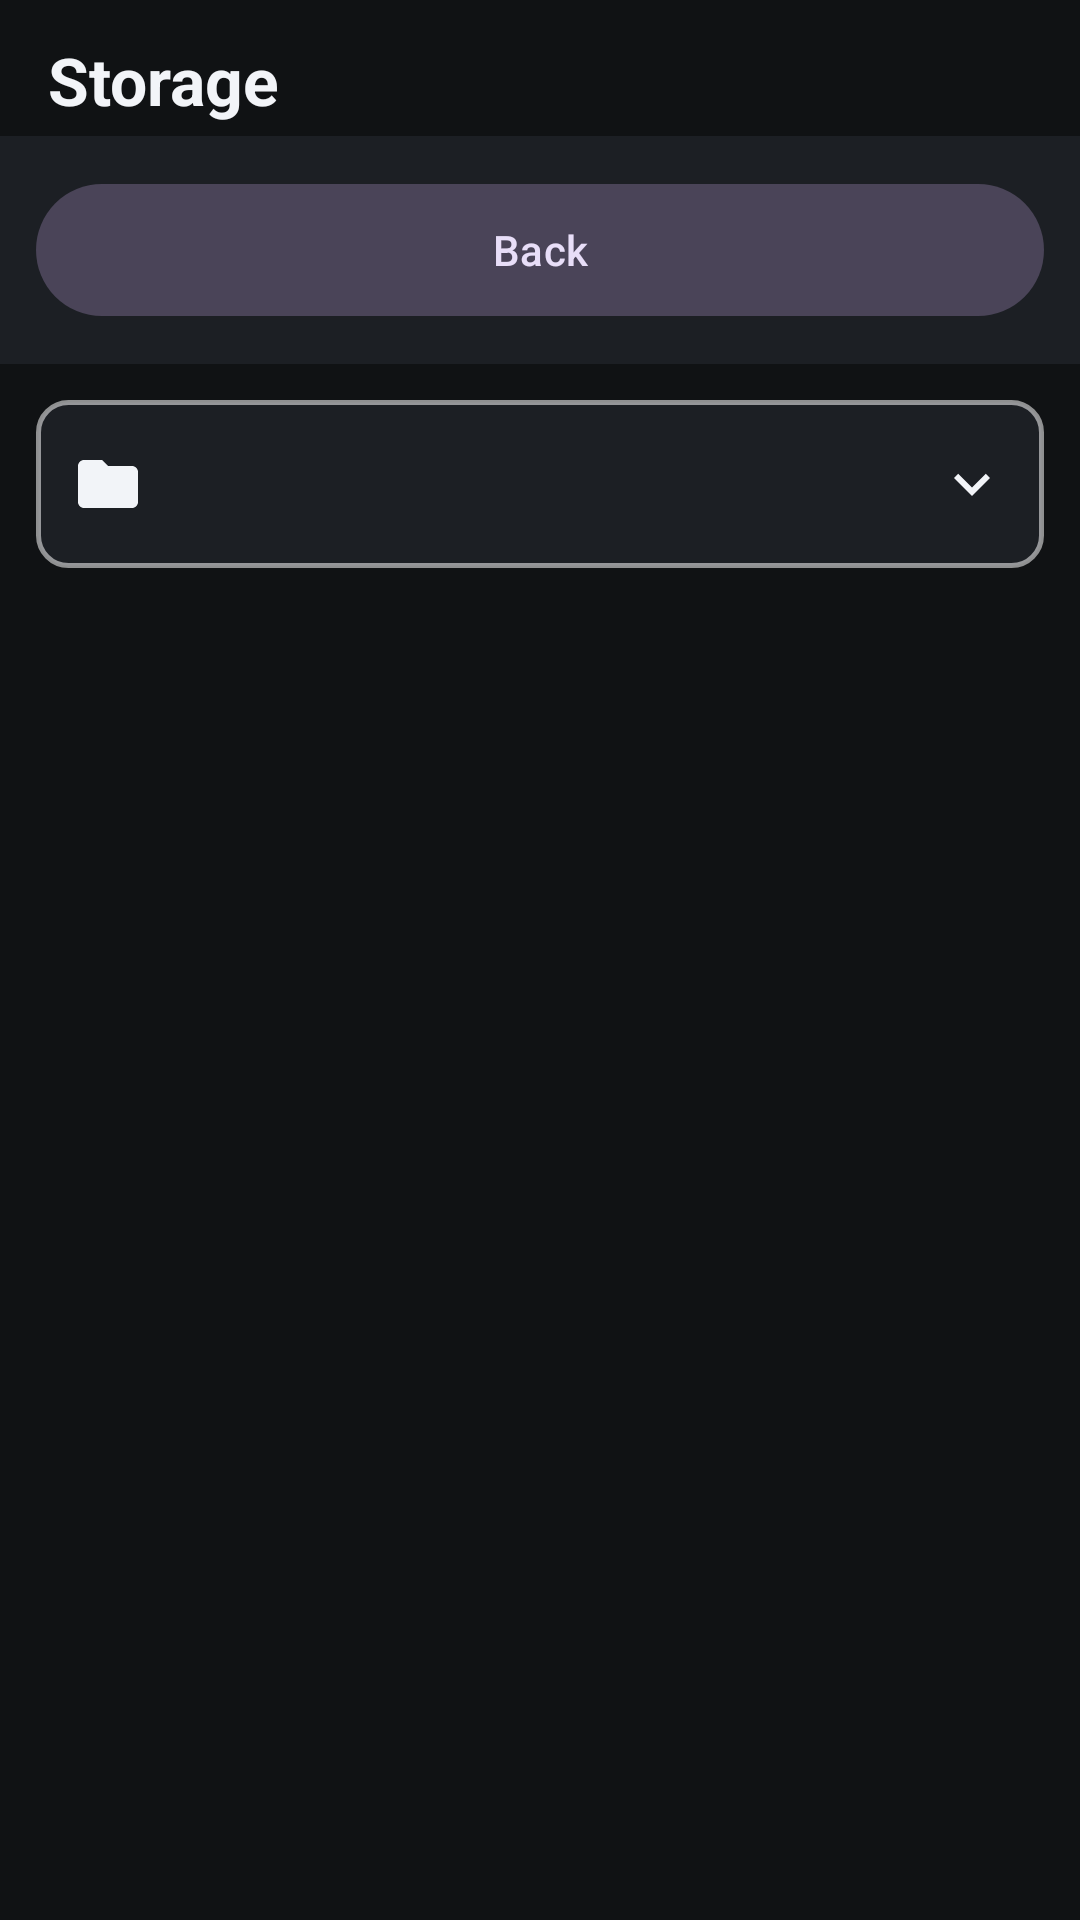

Where to tap for icons on this 1080 x 1920 app screen, as [x,y]:
expand more: [972,485]
folder: [108,484]
